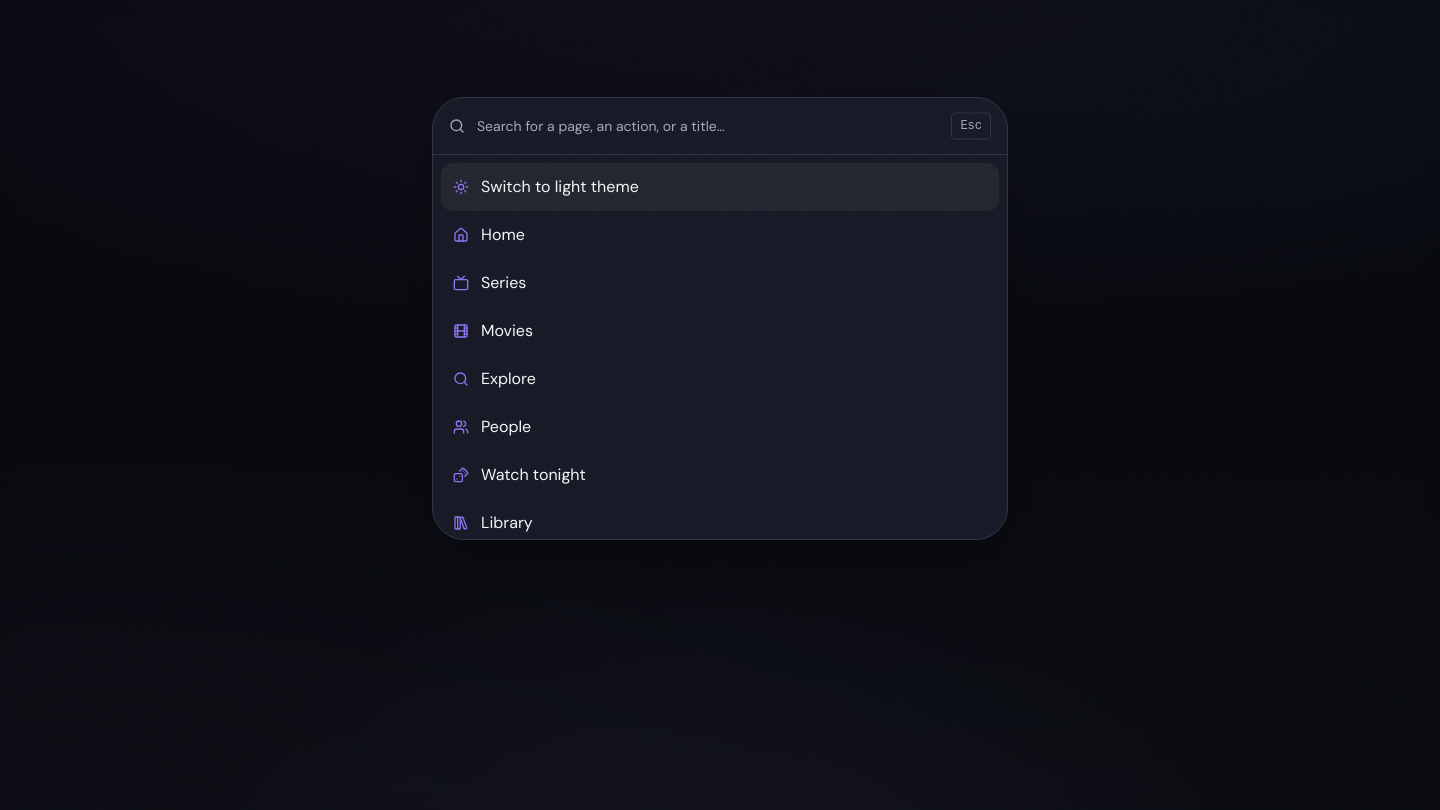
Test: CommandPalette › filters pages by the typed query
Type "stat" into the field with placeholder "Search for a page, an action, or a title…" at (720, 126), box x1=433 y1=98 x2=1007 y2=154
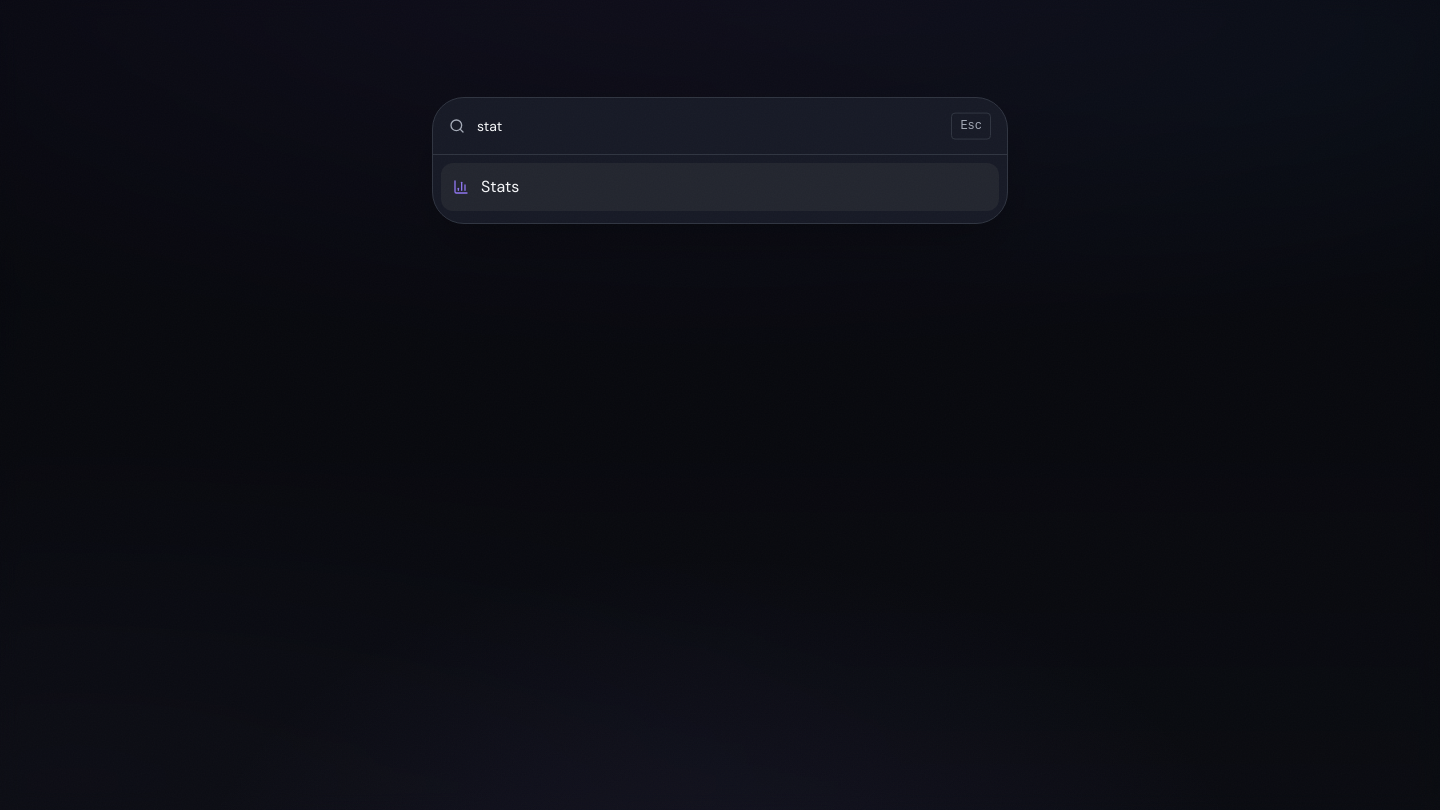
Check: the option "Stats" is shown, box x1=453 y1=176 x2=519 y2=197
Check: the option "Home" is gone
